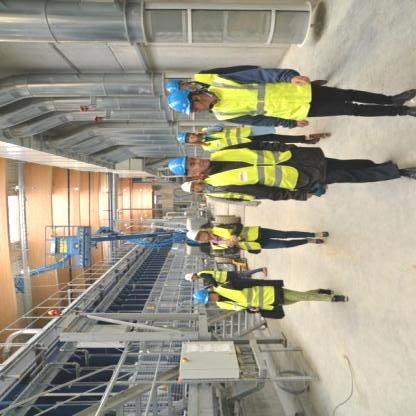blue: (166, 86, 197, 116), (165, 155, 191, 178), (161, 75, 182, 96), (190, 288, 212, 308), (184, 225, 203, 244), (179, 178, 195, 195), (181, 269, 196, 284), (174, 130, 188, 144)
vest: (203, 69, 315, 124), (204, 144, 300, 193), (214, 277, 282, 317), (207, 221, 266, 254), (200, 176, 258, 204), (199, 122, 249, 150), (193, 268, 228, 284), (191, 71, 222, 86)
